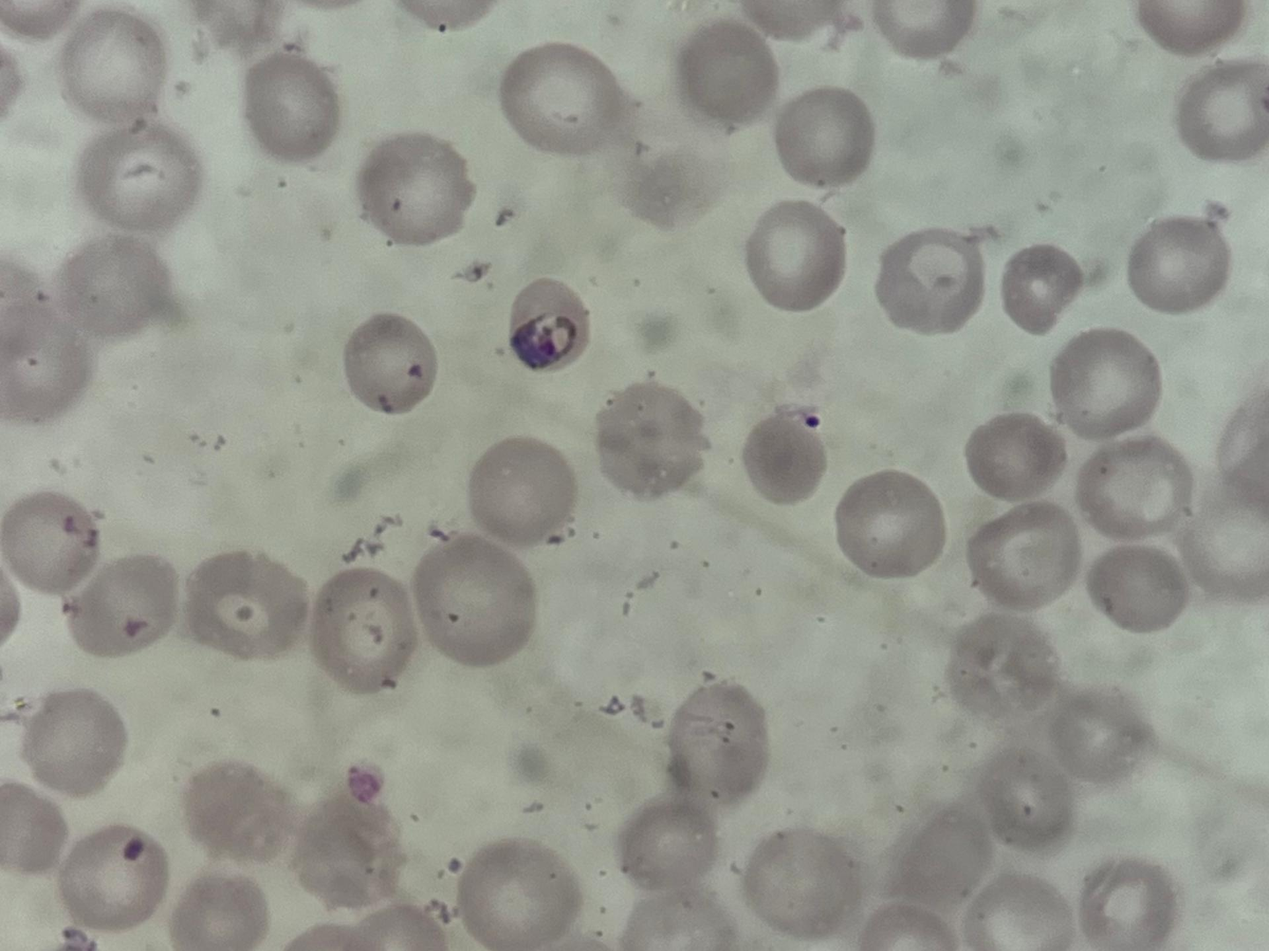Infected: (508, 277, 590, 369)
Uninfected: (410, 538, 535, 667), (291, 786, 406, 910), (181, 549, 307, 662), (309, 566, 420, 689), (456, 841, 578, 949), (502, 45, 620, 155), (77, 126, 198, 233), (595, 381, 707, 496), (356, 133, 471, 243), (946, 611, 1062, 720), (59, 233, 178, 339), (742, 827, 859, 934), (64, 553, 180, 659), (180, 757, 297, 862), (665, 685, 767, 804), (1047, 328, 1158, 436), (60, 9, 168, 117), (467, 437, 576, 544), (834, 471, 944, 577), (966, 504, 1078, 608), (58, 825, 167, 931), (1078, 436, 1192, 537), (19, 689, 126, 796), (876, 228, 985, 333), (883, 808, 993, 911), (1, 304, 93, 423), (744, 202, 845, 310), (677, 22, 779, 126), (1, 491, 102, 596), (243, 54, 342, 159), (1044, 689, 1151, 782), (1128, 217, 1228, 315), (1176, 58, 1269, 162), (774, 88, 871, 186), (971, 751, 1068, 847), (618, 802, 718, 894), (343, 315, 436, 413), (1178, 499, 1268, 600), (964, 412, 1066, 501), (1087, 544, 1188, 633), (621, 147, 718, 233), (1080, 858, 1178, 943), (742, 412, 829, 504), (964, 874, 1073, 946), (167, 874, 268, 950), (1001, 245, 1084, 332)
